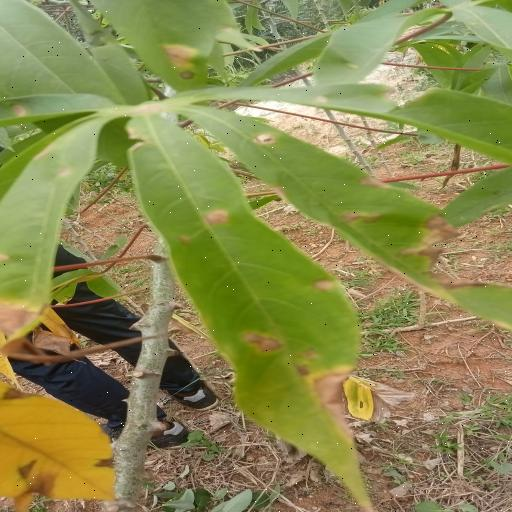Cassava_Brown_Leaf_Spot: (8, 81, 509, 477)
